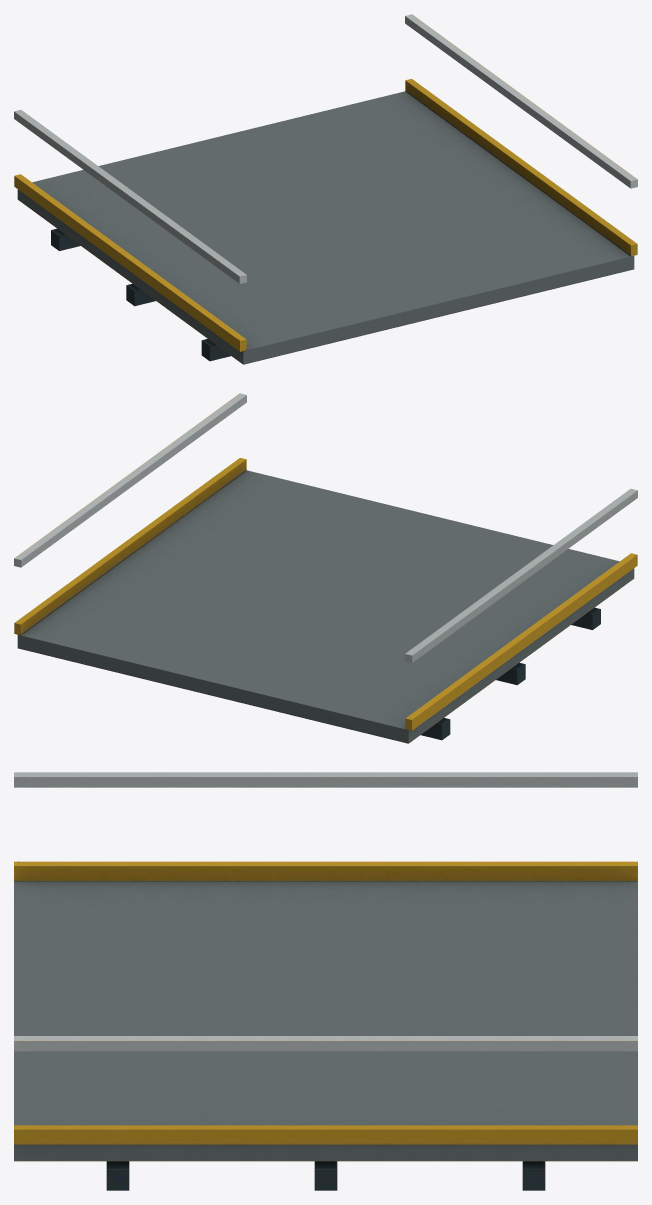
The model's file is catwalk_far.glb.
3 renders of one model, top to bottom at view 1: azimuth 30°, elevation 25°; view 2: azimuth 150°, elevation 25°; view 3: azimuth 270°, elevation 25°, orthographic. The views are drawn at different scales.
Parts seen in each view (by area): view 1: body; view 2: body; view 3: body.
Part boxes in pixels (x1,y1,x2,y2): body: (14, 14, 637, 364); body: (14, 393, 637, 743); body: (14, 772, 637, 1190).
Size of the model in its own units: 6.11 by 1.61 by 6.
1 material, 1 textured.
